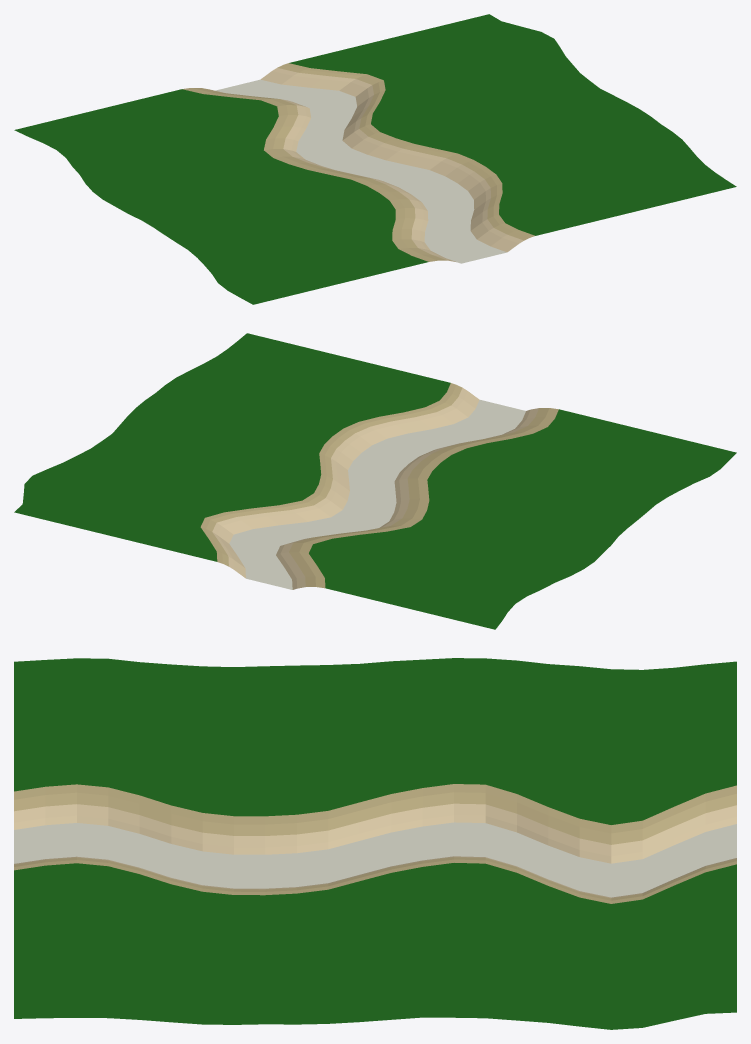
The model's file is river.fbx.
3 renders of one model, top to bottom at view 1: azimuth 30°, elevation 25°; view 2: azimuth 150°, elevation 25°; view 3: azimuth 270°, elevation 25°, orthographic. The views are drawn at different scales.
Parts seen in each view (by area): view 1: Plane.001; view 2: Plane.001; view 3: Plane.001.
Boxes of the visible parts, x1,y1,x2,y2 form: Plane.001: (14, 14, 736, 304); Plane.001: (14, 333, 736, 629); Plane.001: (14, 658, 736, 1029).
Size of the model in its own units: 15730 by 288 by 12924.
